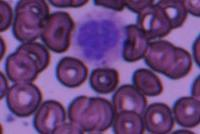N: (72, 9, 123, 66)
